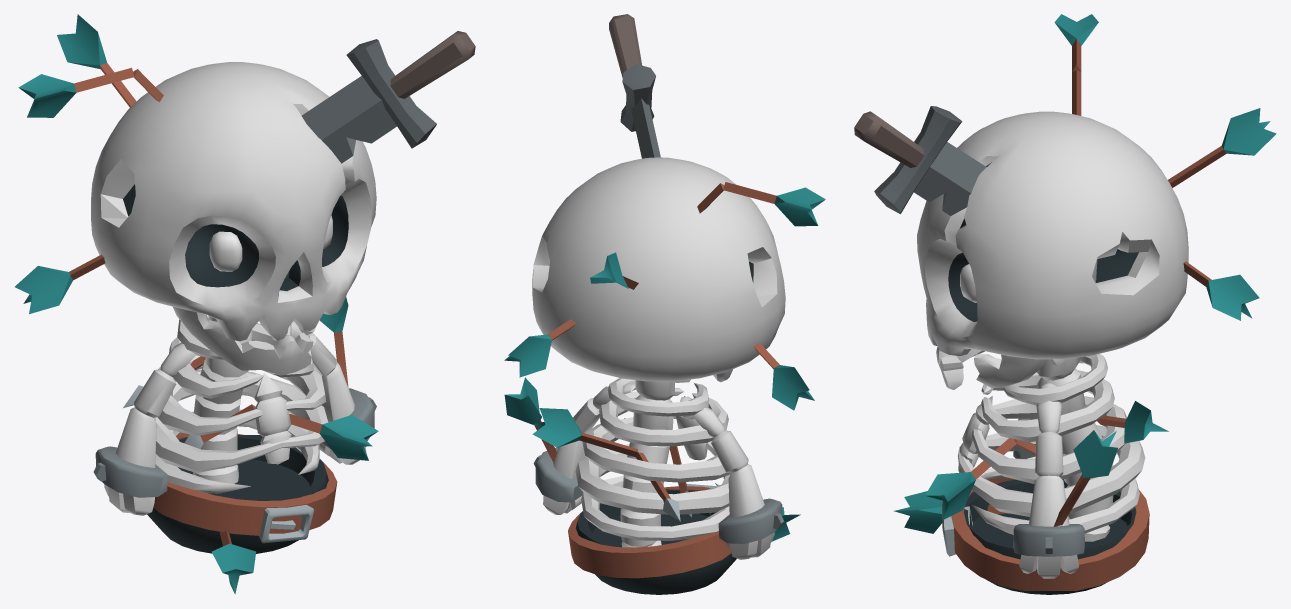
Rendered from character_skeleton_minion_broken.fbx.
3 views of the same model, side by side, from view 1: azimuth 30°, elevation 25°; view 2: azimuth 150°, elevation 25°; view 3: azimuth 270°, elevation 25° (orthographic). The views are drawn at different scales.
Visible parts, largest first — view 1: character_skeleton_minion_head_broken, character_skeleton_minion_body_broken, character_skeleton_minion_armRight_broken, character_skeleton_minion_jaw_broken, character_skeleton_minion_armLeft_broken, character_skeleton_minion_eyes_broken; view 2: character_skeleton_minion_head_broken, character_skeleton_minion_body_broken, character_skeleton_minion_armRight_broken, character_skeleton_minion_armLeft_broken; view 3: character_skeleton_minion_head_broken, character_skeleton_minion_body_broken, character_skeleton_minion_armLeft_broken, character_skeleton_minion_jaw_broken.
Boxes of the visible parts, x1,y1,x2,y2 form: character_skeleton_minion_head_broken: (15, 14, 475, 341); character_skeleton_minion_body_broken: (123, 315, 378, 594); character_skeleton_minion_armRight_broken: (93, 342, 195, 515); character_skeleton_minion_jaw_broken: (173, 306, 319, 375); character_skeleton_minion_armLeft_broken: (291, 297, 376, 464); character_skeleton_minion_eyes_broken: (209, 215, 332, 271); character_skeleton_minion_head_broken: (504, 14, 825, 410); character_skeleton_minion_body_broken: (532, 378, 800, 594); character_skeleton_minion_armRight_broken: (680, 396, 784, 559); character_skeleton_minion_armLeft_broken: (504, 377, 635, 514); character_skeleton_minion_head_broken: (854, 14, 1276, 359); character_skeleton_minion_body_broken: (894, 354, 1168, 594); character_skeleton_minion_armLeft_broken: (1013, 382, 1117, 578); character_skeleton_minion_jaw_broken: (936, 346, 1046, 389).
Bounding box in the file's own units: 1.3 × 1.91 × 1.42.
